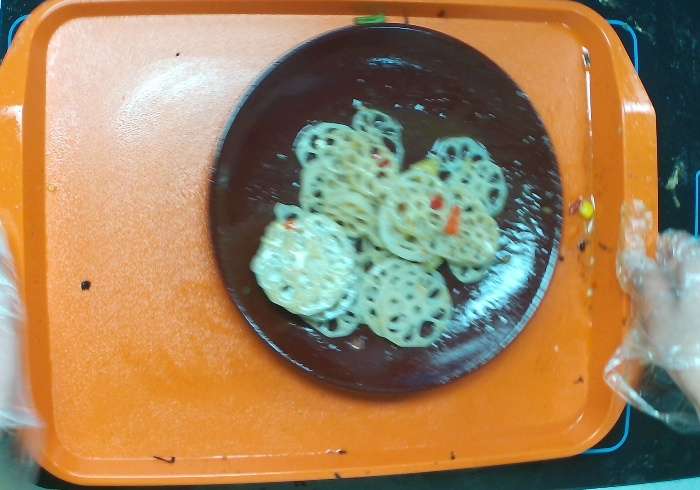HZYJPL-Ka_Fei_Yuan_Pan: (208, 19, 565, 401)
